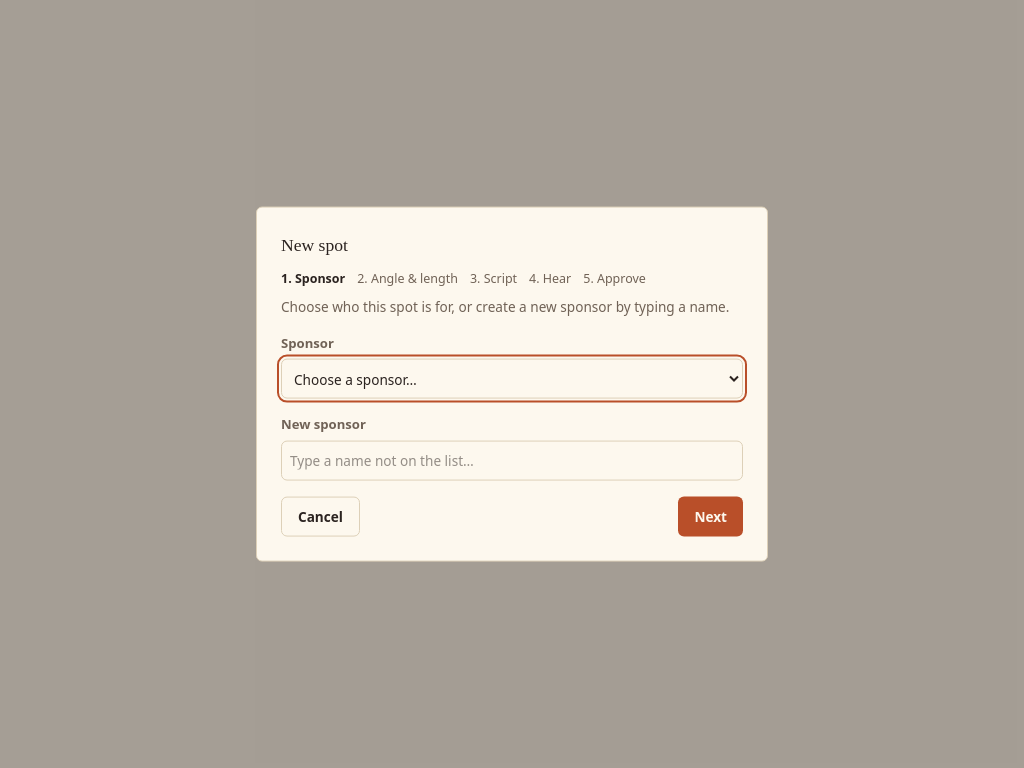
Scenario: Feature: New spot is a five-step wizard › Scenario: the Sponsor step picks from the list or creates inline › typing an unknown name offers Create — AC3
Type "Riverside Diner" into the field labelled "New sponsor". click: (512, 460)
box: [281,440,743,480]
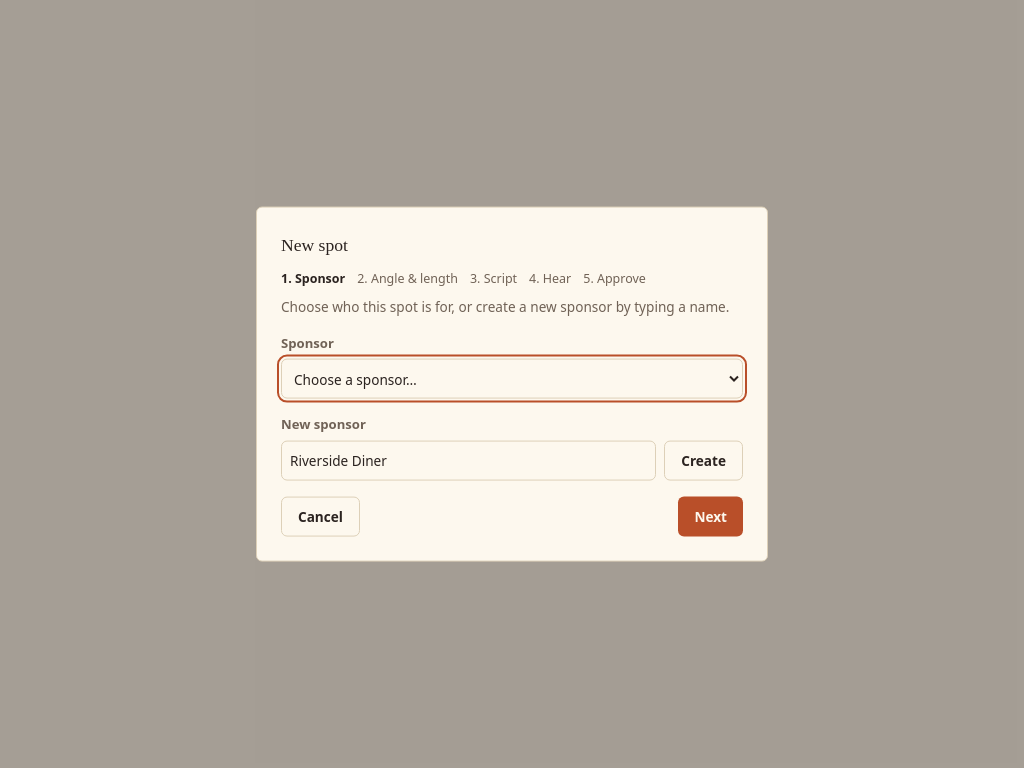
Now the button "Create" is shown, box [664,440,743,480]
